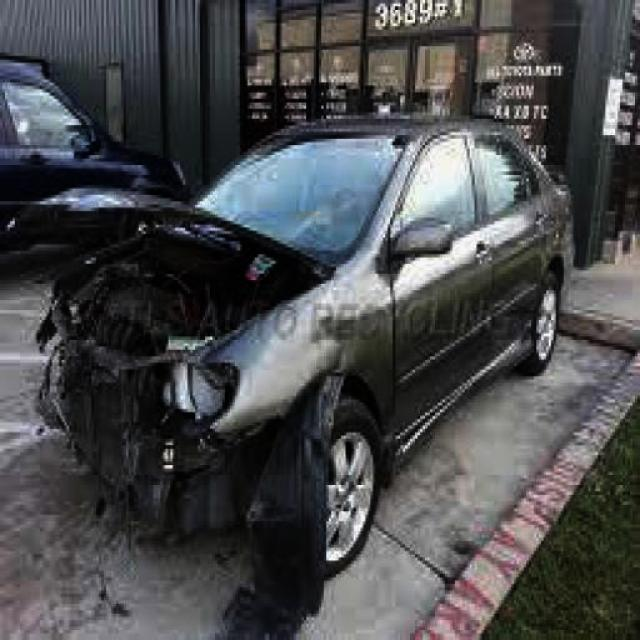car damage: (42, 268, 359, 635)
